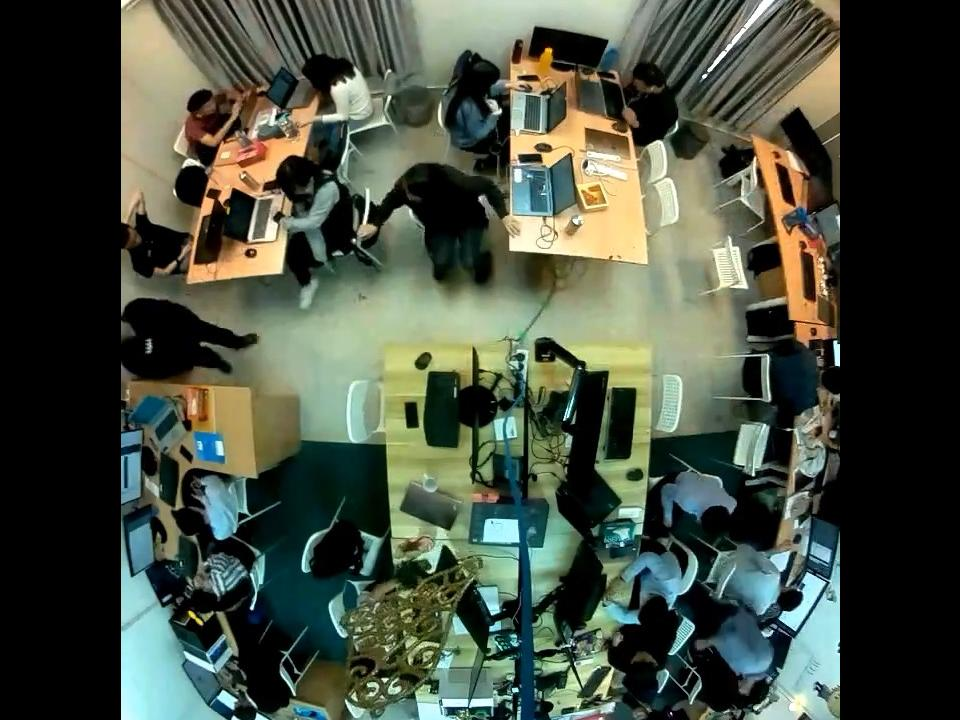name-tag: (144, 338, 153, 354)
